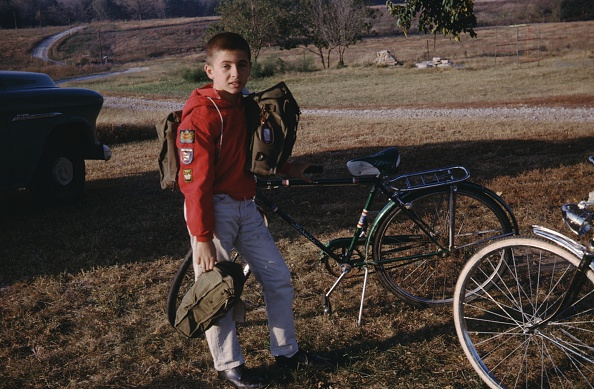em pe: (165, 27, 307, 372)
